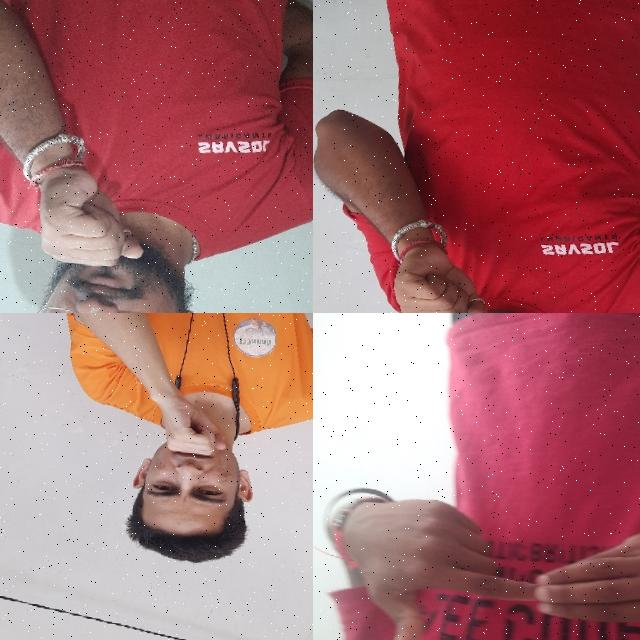Fist Mouth: (0, 140, 221, 313), (114, 382, 270, 573), (333, 207, 571, 313)
Five Fathers: (322, 475, 640, 640)
